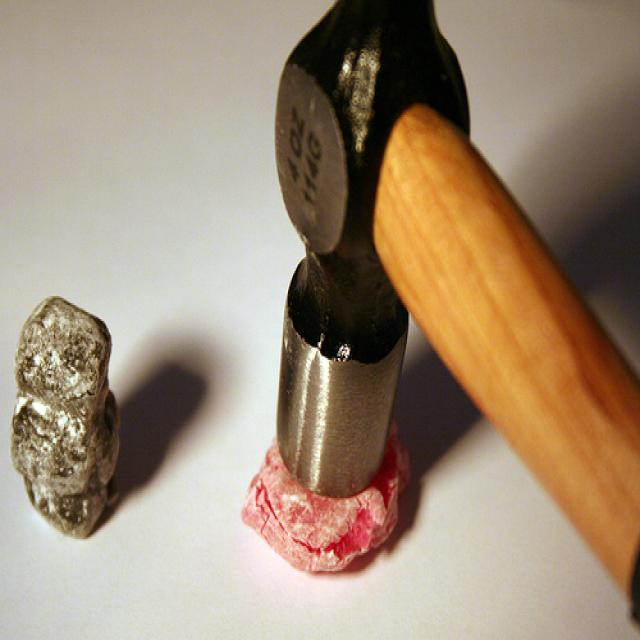hammer: (215, 0, 604, 530)
